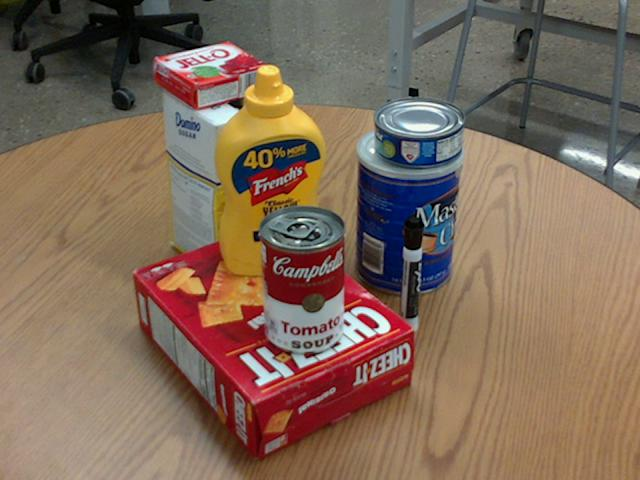cracker_box: (134, 221, 414, 458)
gelatin_box: (154, 42, 270, 109)
large_marker: (397, 217, 423, 333)
master_chef_can: (352, 123, 464, 295)
mug: (214, 144, 302, 246)
mustard_bottle: (213, 64, 324, 274)
potted_meat_can: (198, 82, 313, 203)
sugar_box: (163, 85, 249, 282)
tomato_soup_can: (258, 204, 345, 353)
tuna_fish_can: (373, 98, 465, 167)
